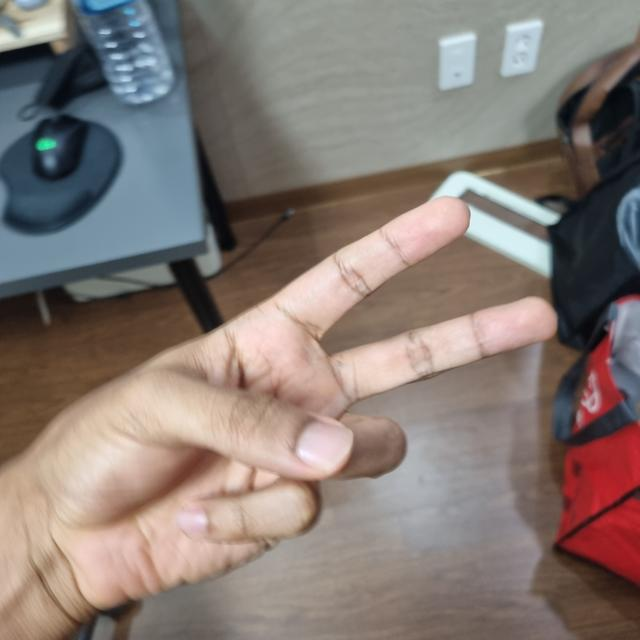Scissors: (0, 1, 604, 639)
